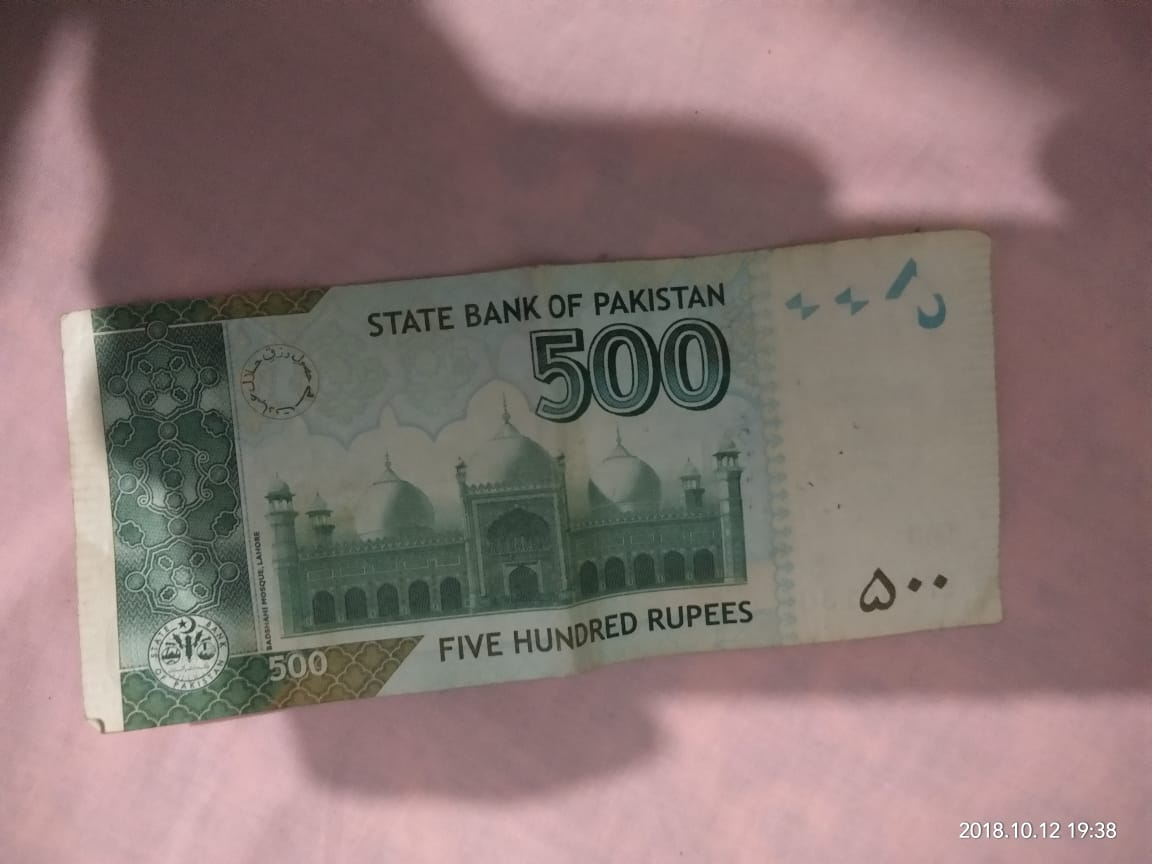500 rupee: (52, 211, 1058, 756)
